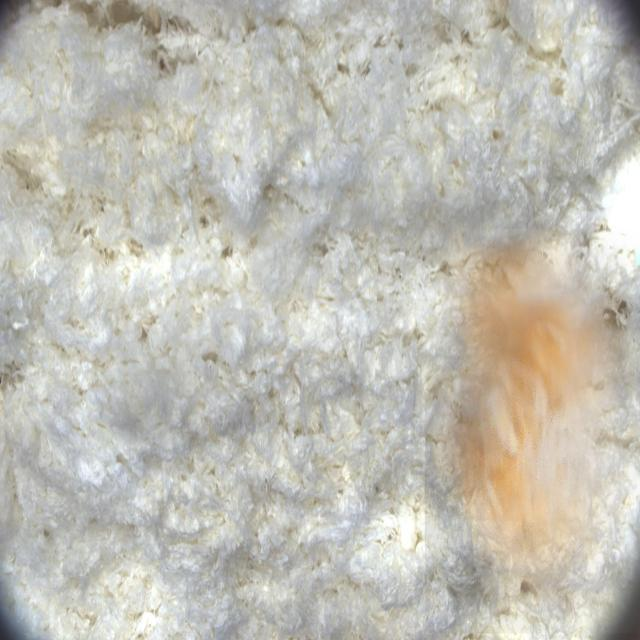dust: (425, 230, 640, 634)
